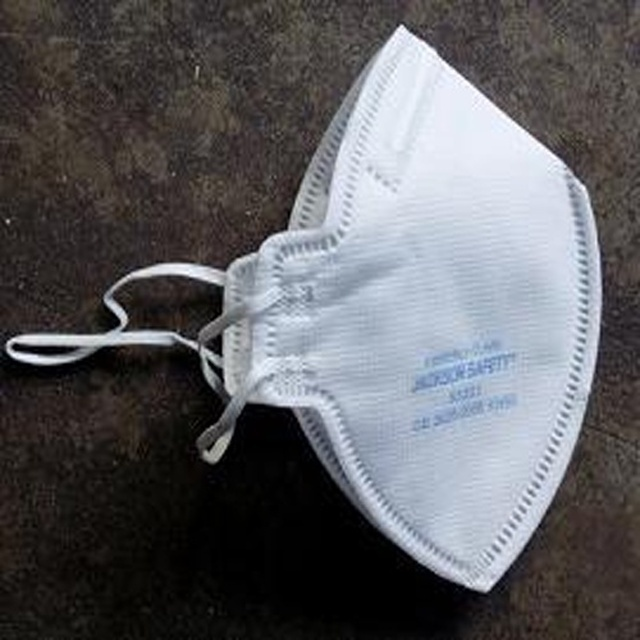mask: (1, 18, 606, 599)
